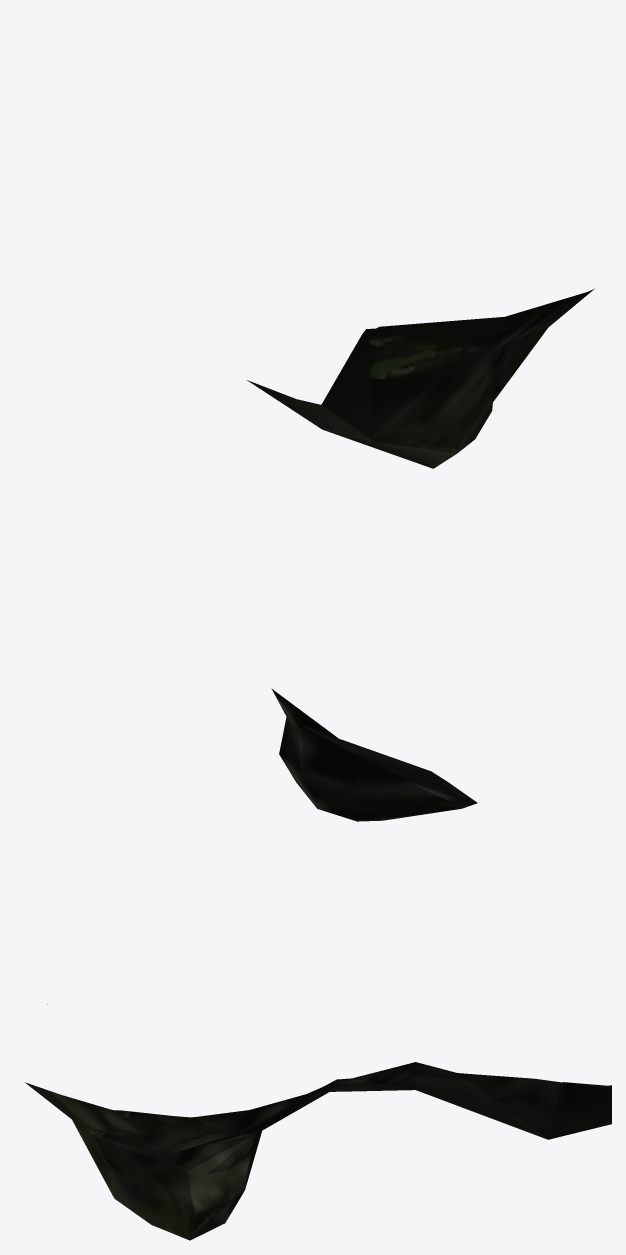
3 renders of one model, top to bottom at view 1: azimuth 30°, elevation 25°; view 2: azimuth 150°, elevation 25°; view 3: azimuth 270°, elevation 25°, orthographic. The views are drawn at different scales.
Size of the model in its own units: 0.3042 by 0.2124 by 0.663.
Materials: 1 (1 with a texture image).
